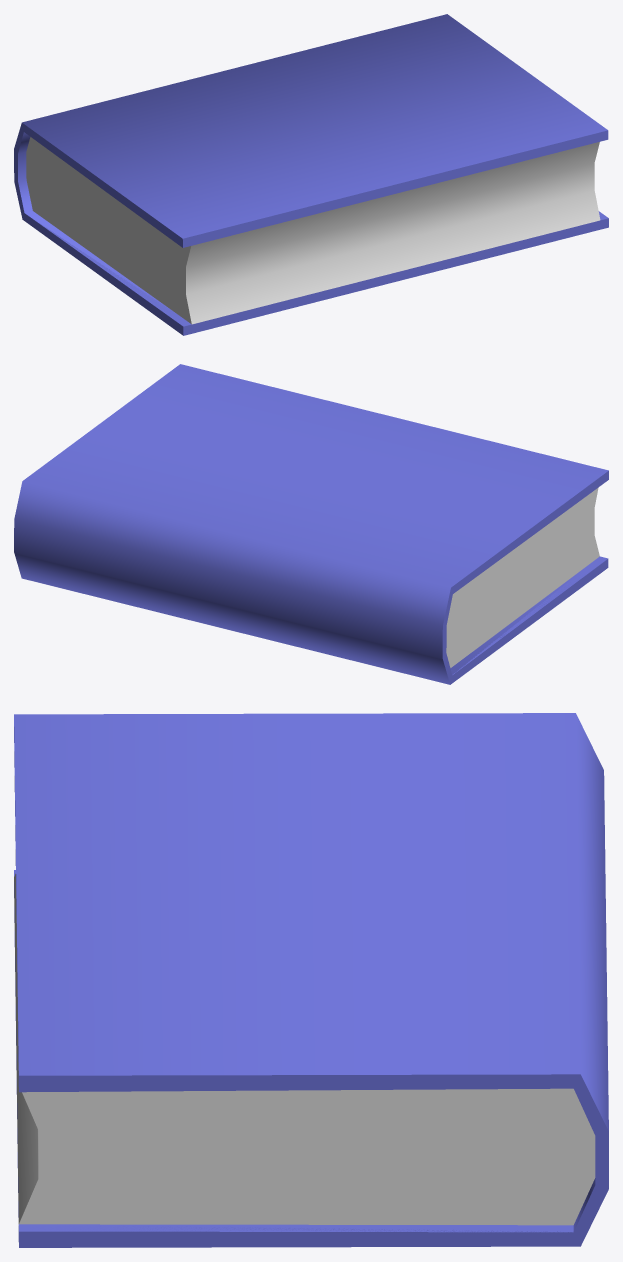
The model's file is book_2_model.fbx.
The picture shows the model from 3 angles, top to bottom: view 1: azimuth 30°, elevation 25°; view 2: azimuth 150°, elevation 25°; view 3: azimuth 270°, elevation 25°; orthographic projection. The views are drawn at different scales.
Parts seen in each view (by area): view 1: Plane.002; view 2: Plane.002; view 3: Plane.002.
Boxes of the visible parts, x1=… form: Plane.002: x1=14, y1=14, x2=608, y2=335; Plane.002: x1=14, y1=364, x2=608, y2=684; Plane.002: x1=14, y1=713, x2=608, y2=1247.
Bounding box in the file's own units: 0.2628 × 0.0589 × 0.1791.
